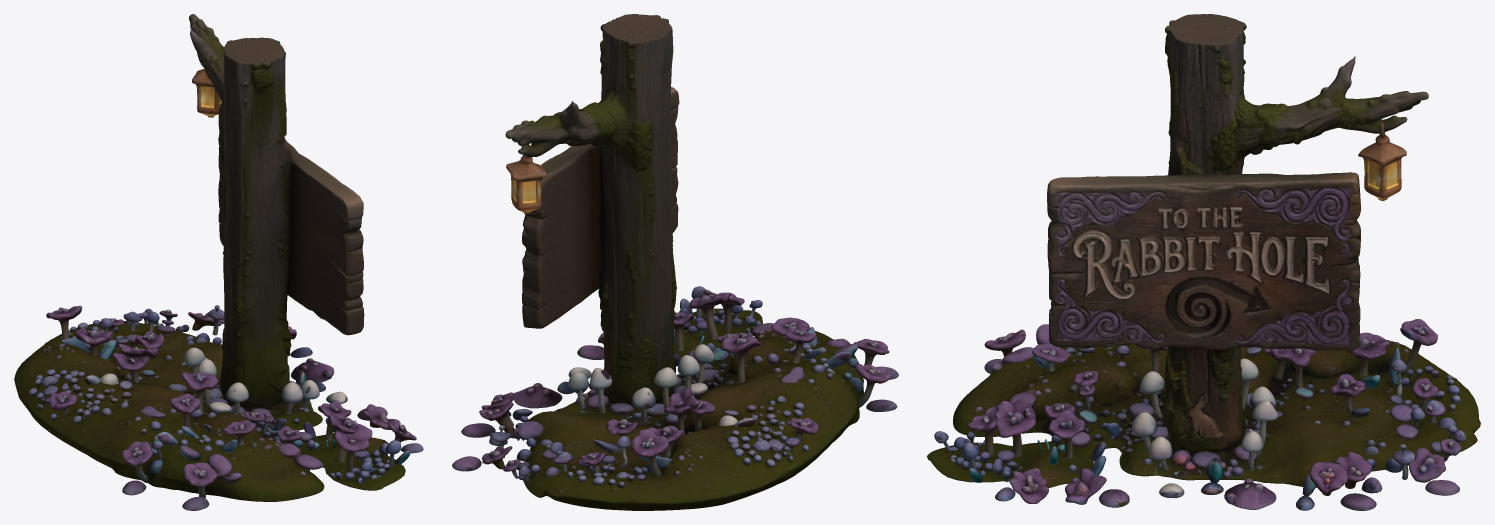
Rendered from sign_small.glb.
The picture shows the model from 3 angles, left to right: view 1: azimuth 30°, elevation 25°; view 2: azimuth 150°, elevation 25°; view 3: azimuth 270°, elevation 25°; orthographic projection. The views are drawn at different scales.
Parts seen in each view (by area): view 1: tripo_node_243dbf40-5747-4989-a734-90a77a54aa14; view 2: tripo_node_243dbf40-5747-4989-a734-90a77a54aa14; view 3: tripo_node_243dbf40-5747-4989-a734-90a77a54aa14.
Boxes of the visible parts, x1,y1,x2,y2 form: tripo_node_243dbf40-5747-4989-a734-90a77a54aa14: [14, 14, 423, 510]; tripo_node_243dbf40-5747-4989-a734-90a77a54aa14: [452, 14, 898, 510]; tripo_node_243dbf40-5747-4989-a734-90a77a54aa14: [927, 14, 1480, 510].
Size of the model in its own units: 0.7131 by 0.8472 by 1.
Materials: 1 (1 with a texture image).
